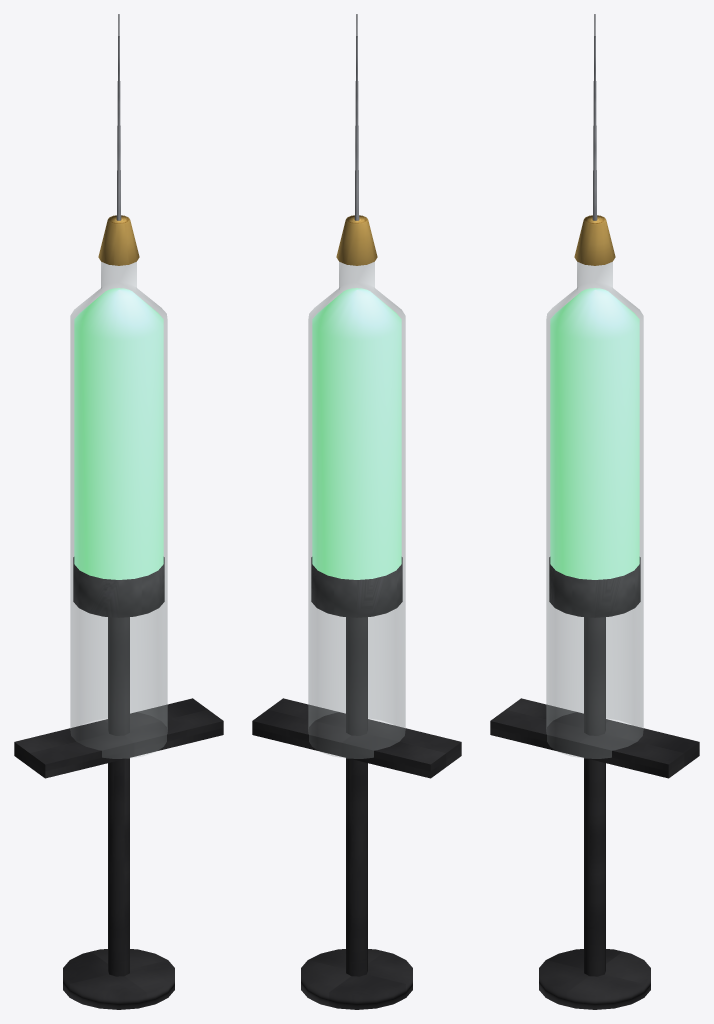
File: 注射器_syringe.glb
The picture shows the model from 3 angles, left to right: view 1: azimuth 30°, elevation 25°; view 2: azimuth 150°, elevation 25°; view 3: azimuth 330°, elevation 25°; orthographic projection.
Visible parts, largest first — view 1: syringe; view 2: syringe; view 3: syringe.
Part boxes in pixels (left/top/right/bottom): syringe: left=14, top=14, right=223, bottom=1009; syringe: left=252, top=14, right=461, bottom=1009; syringe: left=490, top=14, right=699, bottom=1009.
Bounding box in the file's own units: 0.04 × 0.208 × 0.0217.
6 materials, 4 textured.
